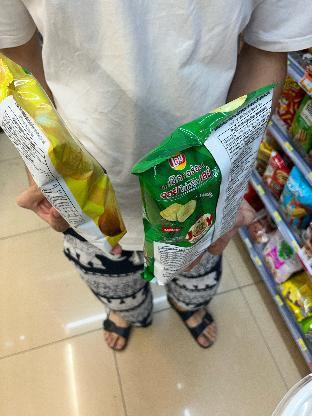Plastic Packaging: (132, 79, 282, 287), (0, 50, 126, 260)
